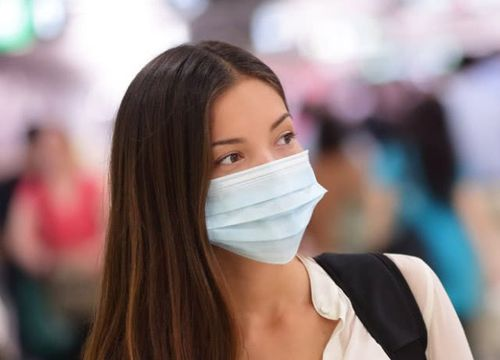mask: (195, 80, 329, 275)
